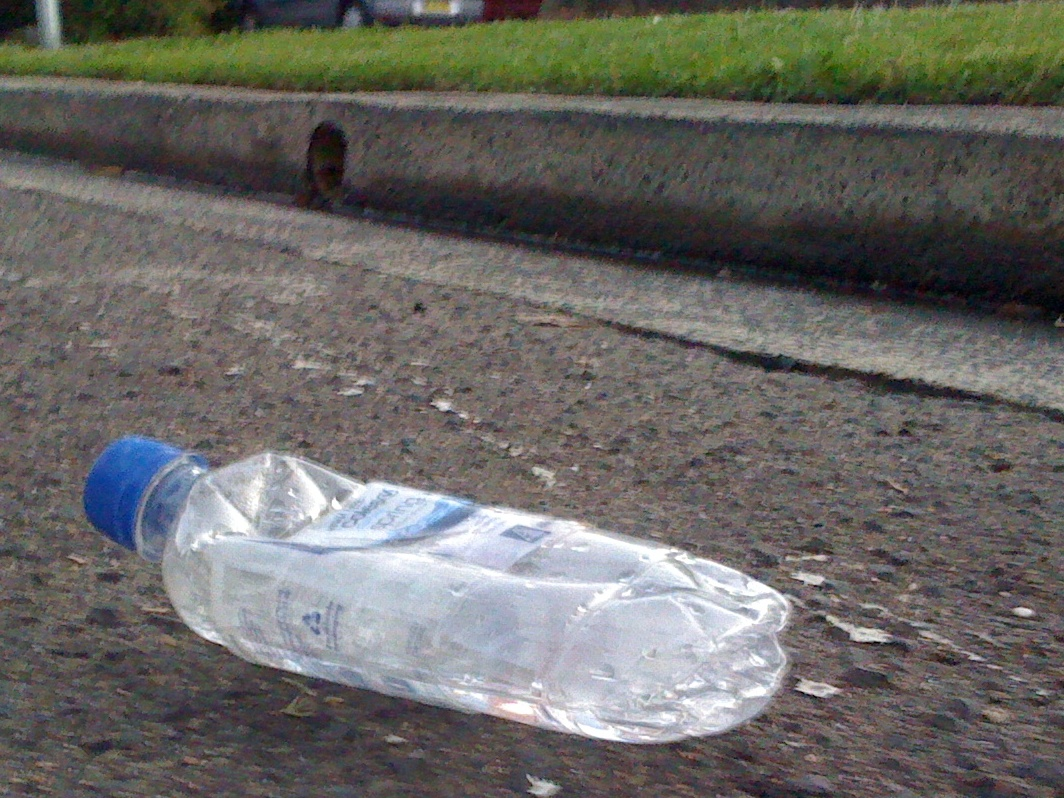bottle: (79, 431, 803, 747)
